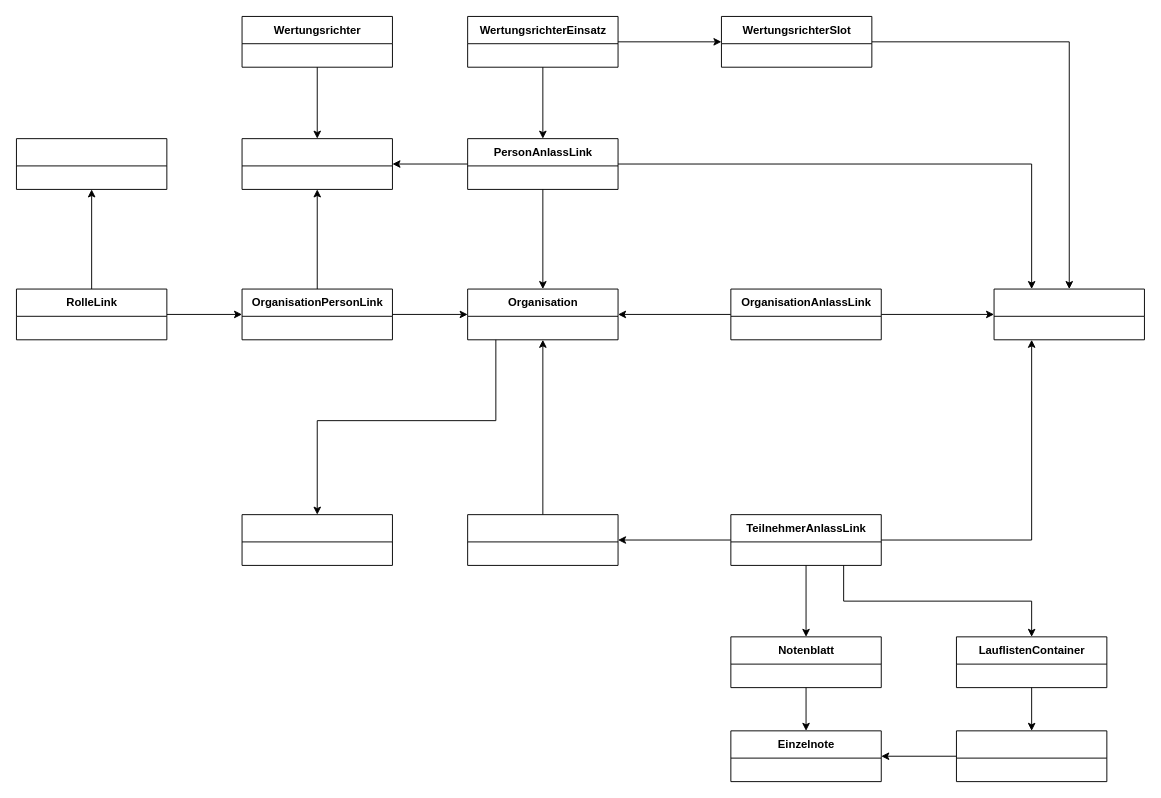
Image size: 1161x798. Some labels were removed from this diagram. The centre of each missing label's shape, as x and y in pixels:
Anlass: point 1068,314
Laufliste: point 1031,756
Person: point 316,163
Rolle: point 91,163
Teilnehmer: point 542,539
Verband: point 316,539
